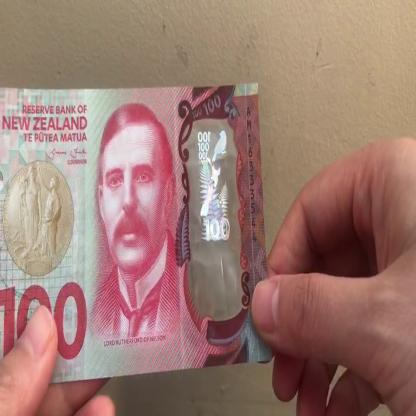100F: (192, 125, 235, 295)
